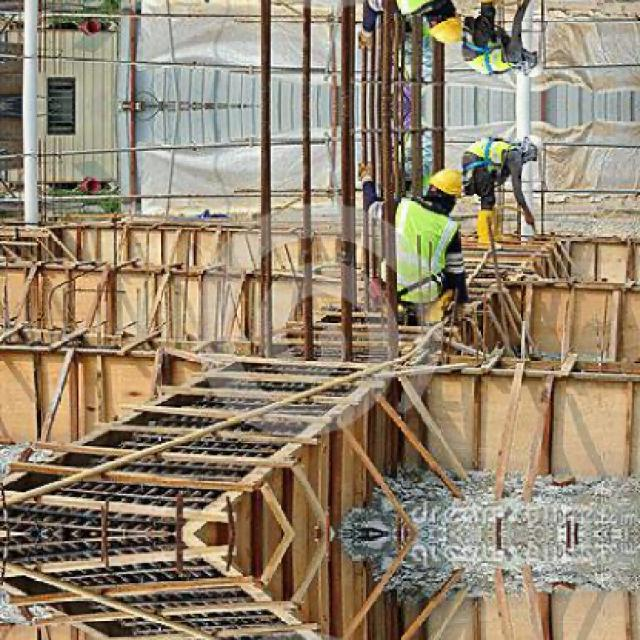helmet: (424, 163, 468, 203), (424, 6, 468, 46), (514, 130, 551, 164), (514, 44, 551, 78)
